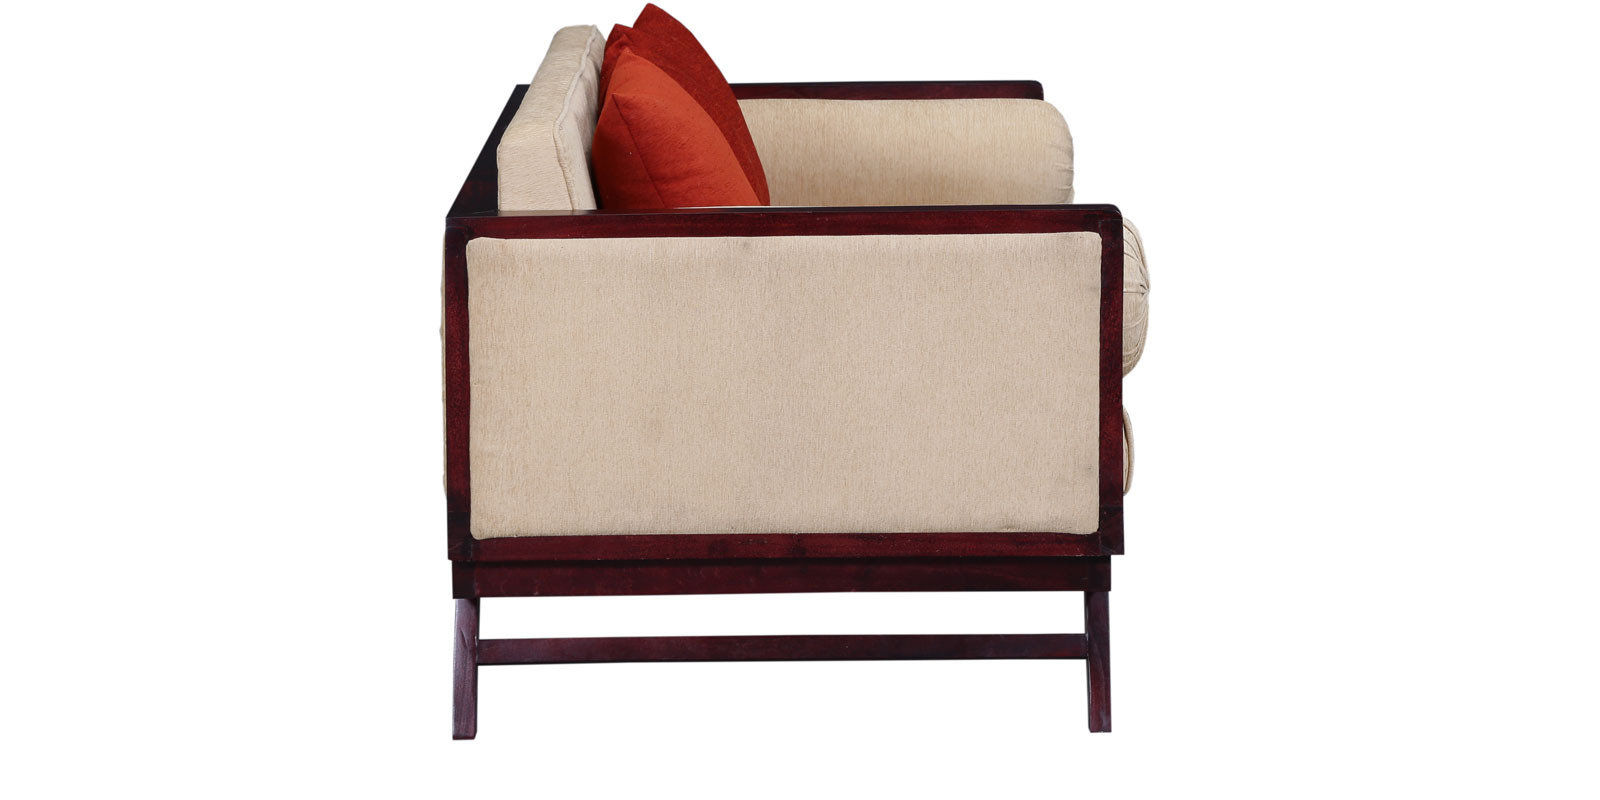Barnes Three Seater Sofa with Cushions in Passion Mahogany Finish by Woodsworth: (419, 3, 1156, 736)
